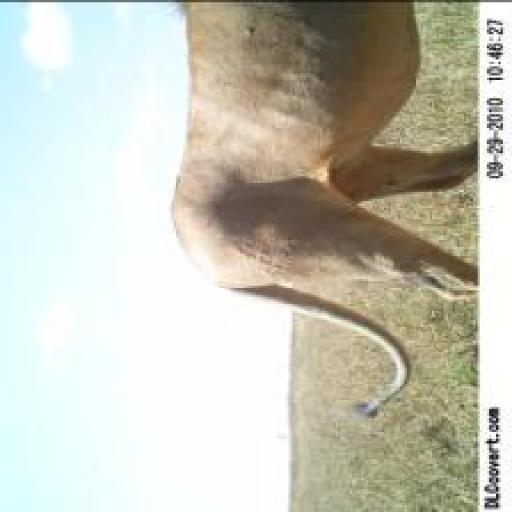lion: (151, 2, 476, 433)
